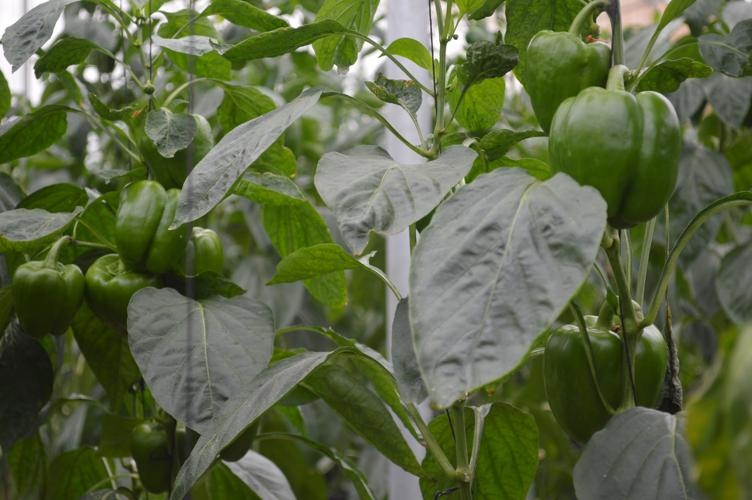BellPepper: (540, 295, 673, 447), (552, 80, 688, 225), (516, 35, 611, 134), (112, 180, 195, 274), (78, 249, 164, 331), (9, 250, 87, 340), (118, 415, 185, 498), (179, 218, 223, 283)
